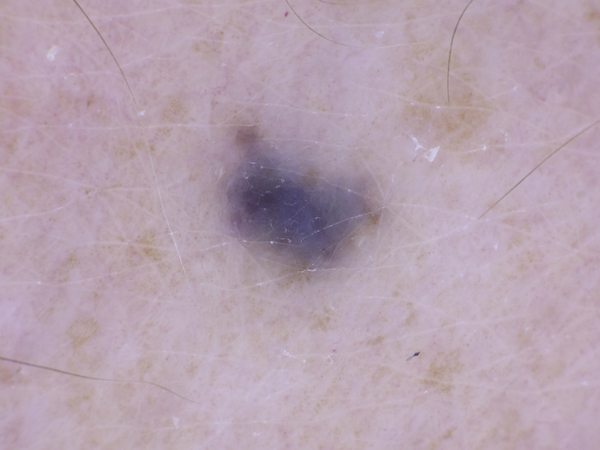Detected Lesion: (208, 114, 391, 290)
